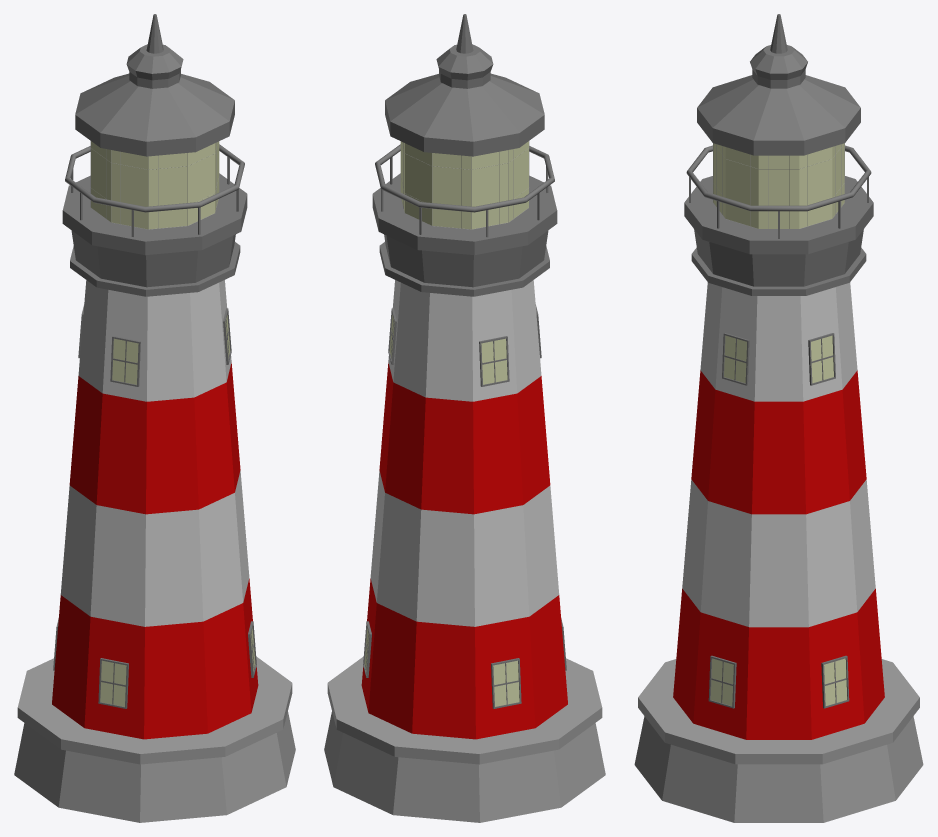
The model's file is lighthouse.glb.
The picture shows the model from 3 angles, left to right: view 1: azimuth 30°, elevation 25°; view 2: azimuth 150°, elevation 25°; view 3: azimuth 270°, elevation 25°; orthographic projection.
Parts seen in each view (by area): view 1: lighthouse; view 2: lighthouse; view 3: lighthouse.
Boxes of the visible parts, bbox=[...] form: lighthouse: bbox=[14, 14, 295, 822]; lighthouse: bbox=[324, 14, 605, 822]; lighthouse: bbox=[634, 14, 923, 822].
Size of the model in its own units: 4.26 by 12.83 by 4.48.
